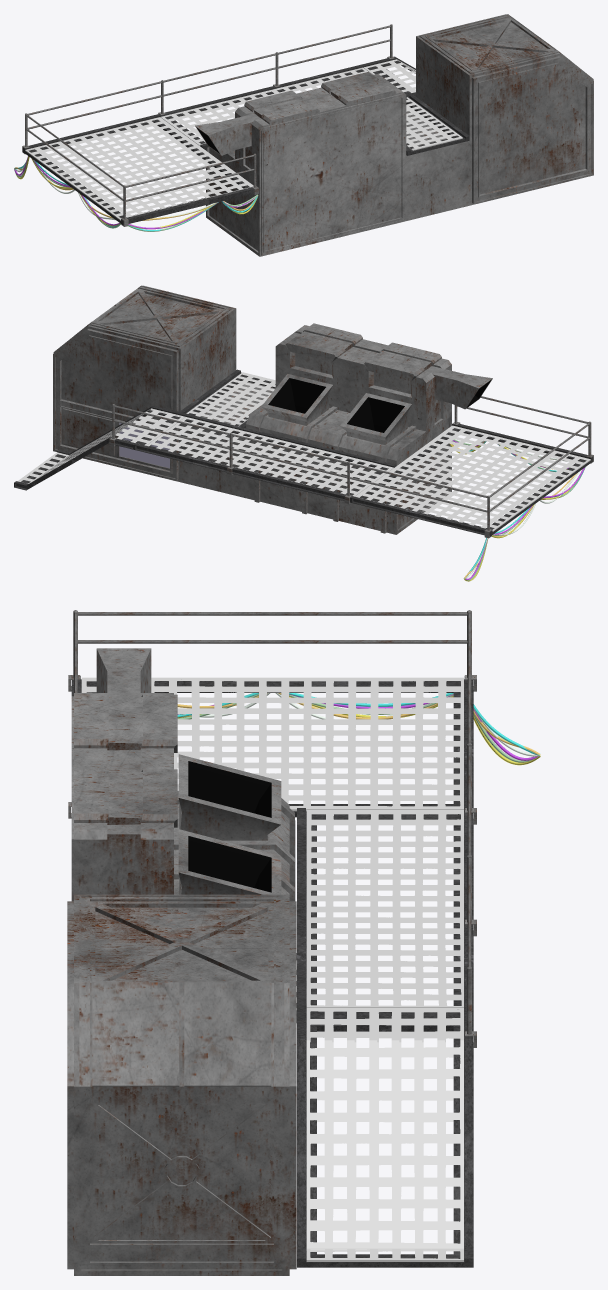
The model's file is Triturador_SeccionEnergia.fbx.
3 renders of one model, top to bottom at view 1: azimuth 30°, elevation 25°; view 2: azimuth 150°, elevation 25°; view 3: azimuth 270°, elevation 25°, orthographic. The views are drawn at different scales.
Parts seen in each view (by area): view 1: Triturador.Energia, Mayas, Marcos.001, BarrasContencion, GeoCables, PilaresContencion; view 2: Triturador.Energia, Mayas, Marcos.001, BarrasContencion, GeoCables, PilaresContencion; view 3: Triturador.Energia, Mayas, Marcos.001, BarrasContencion, GeoCables, PilaresContencion.
Part boxes in pixels (x1,y1,x2,y2): Triturador.Energia: [195, 14, 593, 256]; Mayas: [25, 59, 462, 220]; Marcos.001: [22, 56, 469, 225]; BarrasContencion: [25, 25, 390, 201]; GeoCables: [14, 156, 258, 231]; PilaresContencion: [22, 24, 394, 226]; Triturador.Energia: [53, 285, 492, 534]; Mayas: [18, 372, 590, 531]; Marcos.001: [14, 369, 593, 536]; BarrasContencion: [114, 396, 589, 512]; GeoCables: [450, 439, 585, 581]; PilaresContencion: [109, 404, 593, 538]; Triturador.Energia: [67, 648, 296, 1275]; Mayas: [81, 677, 463, 1261]; Marcos.001: [71, 675, 473, 1267]; BarrasContencion: [74, 612, 471, 966]; GeoCables: [177, 693, 540, 765]; PilaresContencion: [68, 610, 476, 1047].
Bounding box in the file's own units: 1692 × 458 × 734.
